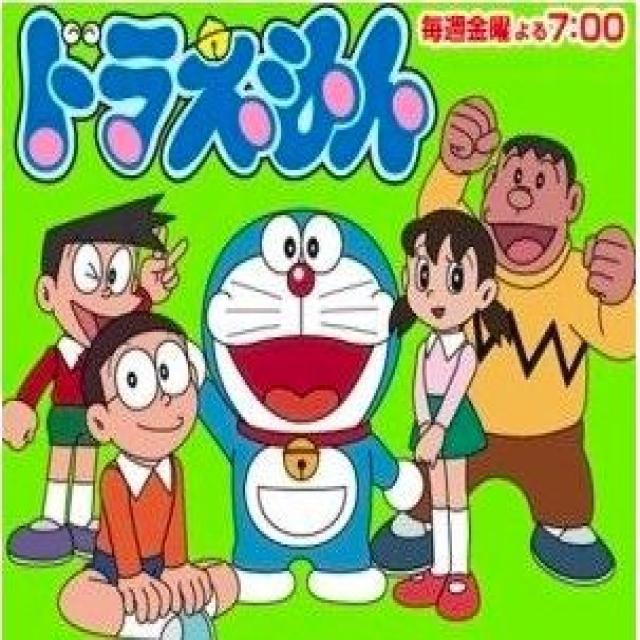doraemon: (199, 202, 399, 467)
jaian: (475, 125, 583, 279)
nobita: (70, 303, 198, 470)
shizuka: (382, 202, 520, 350)
suneo: (34, 186, 171, 350)
